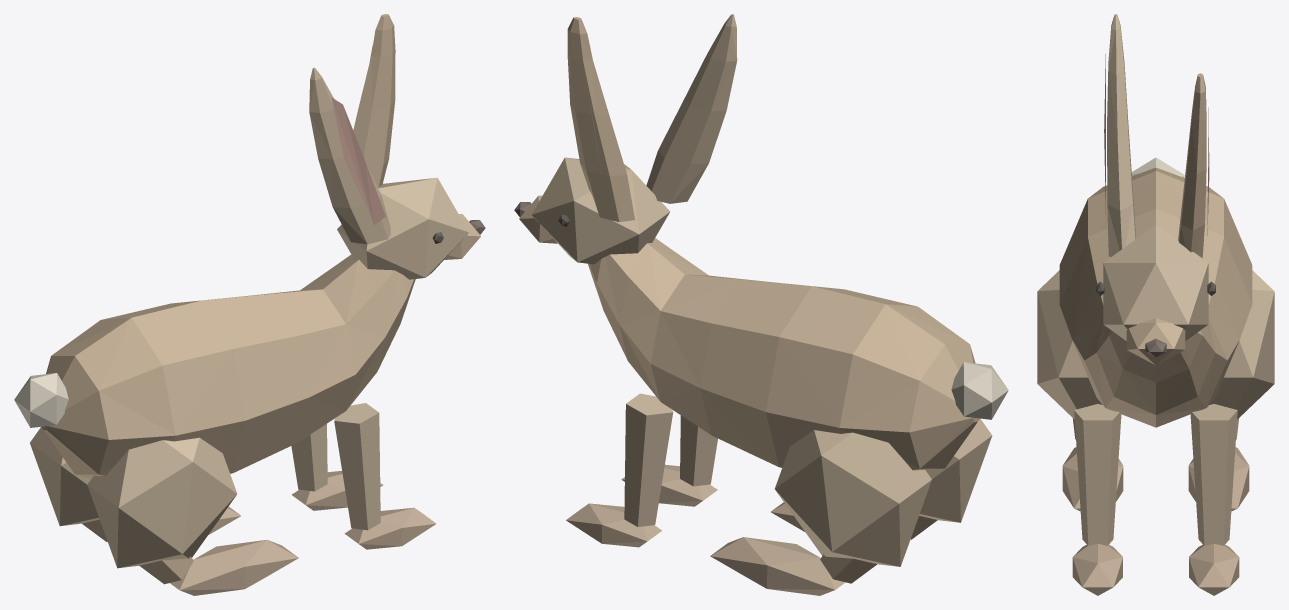
File: hare.glb
3 views of the same model, side by side, from view 1: azimuth 30°, elevation 25°; view 2: azimuth 150°, elevation 25°; view 3: azimuth 270°, elevation 25° (orthographic). The views are drawn at different scales.
Parts seen in each view (by area): view 1: Body, near_Hind_thigh, Head, Ear_near, near_Foreleg, Ear_far, near_Hind_foot, far_Hind_thigh, Tail, near_Forepaw, Inner_ear_near, far_Foreleg (+2 smaller); view 2: Body, far_Hind_thigh, Ear_near, Head, Ear_far, far_Foreleg, far_Hind_foot, near_Hind_thigh, Tail, far_Forepaw, near_Foreleg, near_Forepaw (+1 smaller); view 3: Body, Head, near_Foreleg, far_Foreleg, Ear_near, near_Hind_thigh, far_Hind_thigh, Ear_far, near_Forepaw, far_Forepaw, Muzzle, near_Hind_foot (+2 smaller).
Part boxes in pixels (<box>): Body: <box>41,254,415,478</box>; near_Hind_thigh: <box>87,437,237,568</box>; Head: <box>337,177,469,279</box>; Ear_near: <box>309,67,390,244</box>; near_Foreleg: <box>334,403,380,530</box>; Ear_far: <box>353,14,395,186</box>; near_Hind_foot: <box>170,540,298,595</box>; far_Hind_thigh: <box>30,427,99,526</box>; Tail: <box>14,373,68,427</box>; near_Forepaw: <box>344,507,436,549</box>; Inner_ear_near: <box>331,97,385,225</box>; far_Foreleg: <box>291,424,327,491</box>; Body: <box>588,238,979,472</box>; far_Hind_thigh: <box>775,430,931,566</box>; Ear_near: <box>646,14,737,203</box>; Head: <box>531,157,670,264</box>; Ear_far: <box>567,17,634,222</box>; far_Foreleg: <box>624,393,673,526</box>; far_Hind_foot: <box>710,537,845,595</box>; near_Hind_thigh: <box>919,418,992,522</box>; Tail: <box>951,362,1008,419</box>; far_Forepaw: <box>566,503,662,547</box>; near_Foreleg: <box>680,415,717,486</box>; near_Forepaw: <box>621,464,717,506</box>; Body: <box>1059,167,1252,427</box>; Head: <box>1103,225,1208,340</box>; near_Foreleg: <box>1074,404,1121,545</box>; far_Foreleg: <box>1190,404,1237,545</box>; Ear_near: <box>1107,14,1135,256</box>; near_Hind_thigh: <box>1037,270,1102,419</box>; far_Hind_thigh: <box>1209,270,1274,419</box>; Ear_far: <box>1178,73,1206,258</box>; near_Forepaw: <box>1072,543,1122,595</box>; far_Forepaw: <box>1189,543,1239,595</box>; Muzzle: <box>1126,318,1185,365</box>; near_Hind_foot: <box>1062,447,1123,511</box>.
Bounding box in the file's own units: 2.36 × 2.39 × 0.9608.
